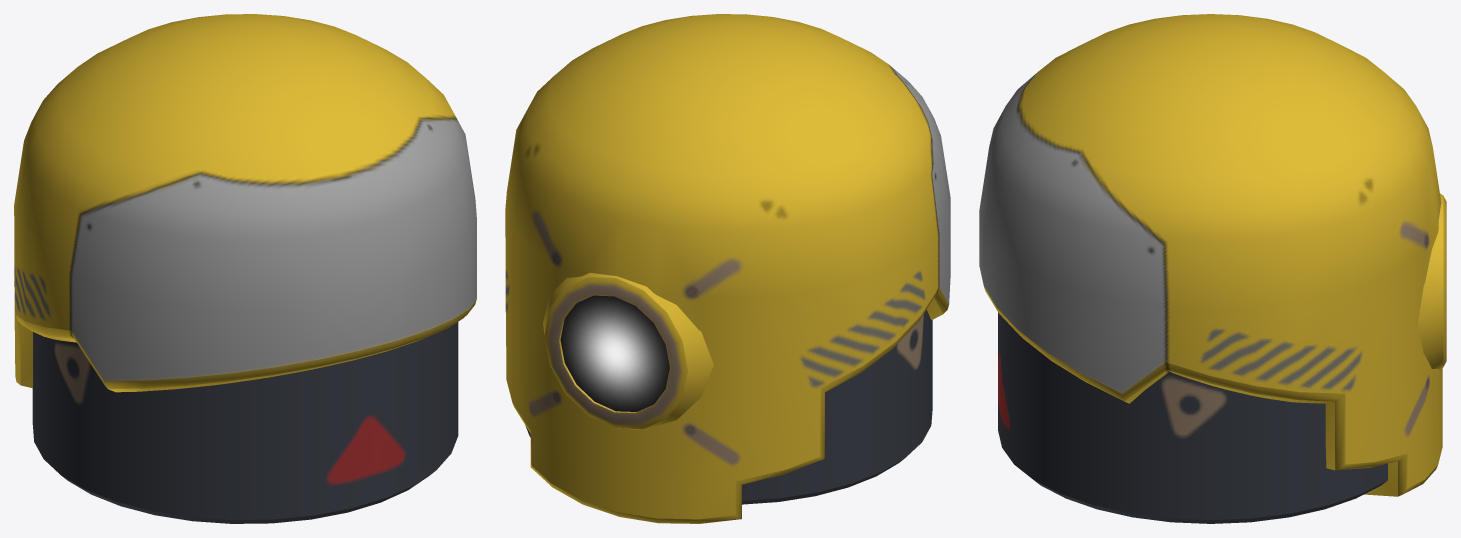
Rendered from IG_Helmat_Storm.fbx.
3 renders of one model, left to right at view 1: azimuth 30°, elevation 25°; view 2: azimuth 150°, elevation 25°; view 3: azimuth 270°, elevation 25°, orthographic. The views are drawn at different scales.
Parts seen in each view (by area): view 1: StormHelmet; view 2: StormHelmet; view 3: StormHelmet.
Part boxes in pixels (<box>): StormHelmet: <box>14,14,476,523</box>; StormHelmet: <box>505,14,950,523</box>; StormHelmet: <box>979,14,1446,523</box>.
Bounding box in the file's own units: 0.5662 × 0.5671 × 0.5711.
